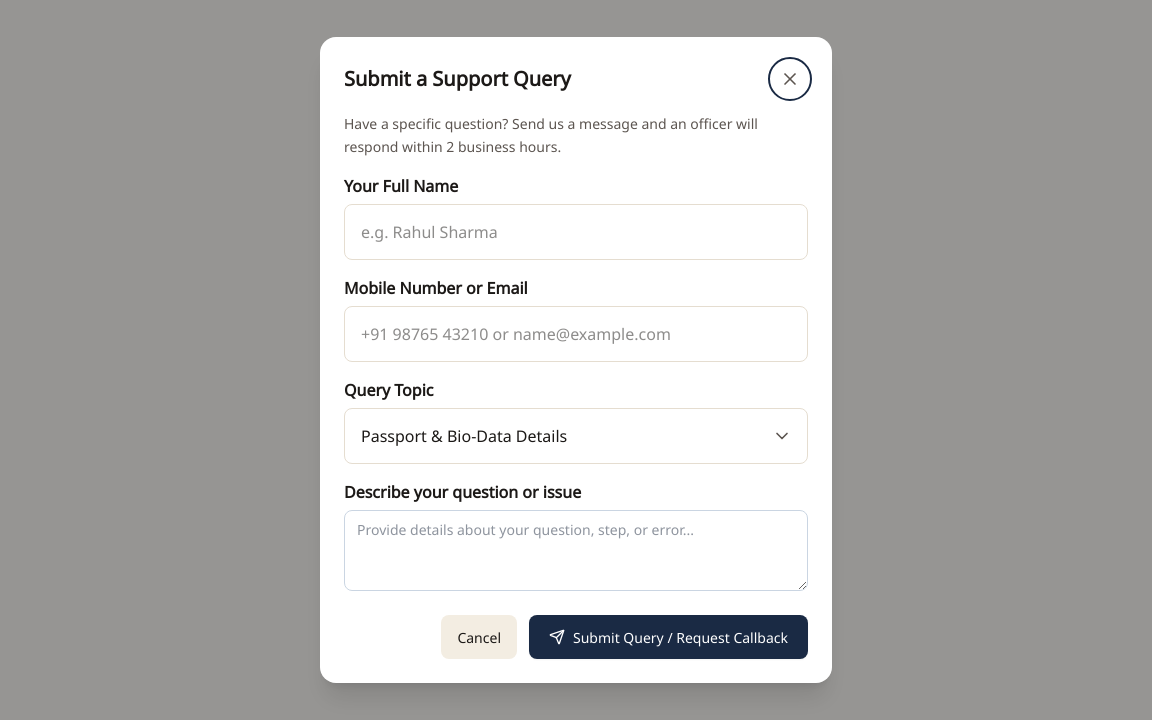
SupportTicketModal › validates required fields on empty submit
This screenshot has width=1152, height=720.
Click the button "Submit Query / Request Callback" at (668, 637), box [529,615,808,659]
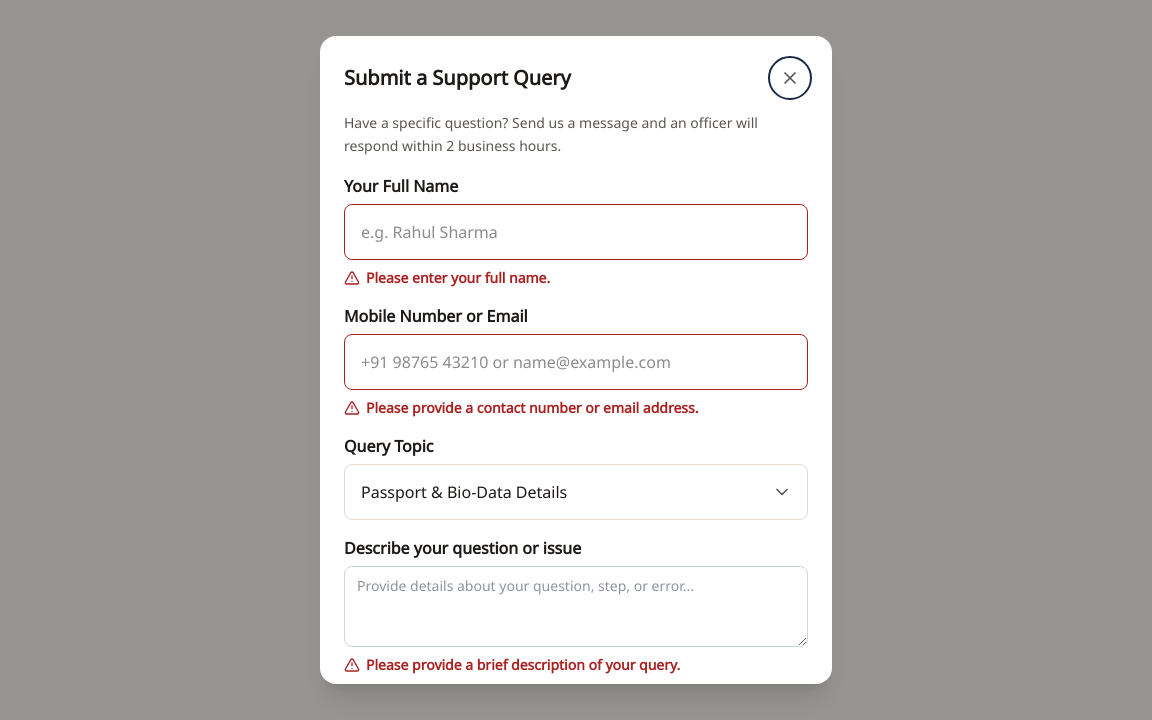
Expected: the text "Please enter your full name." is shown, [366,268,550,288]
Expected: the text "Please provide a contact number or email address." is shown, [366,398,698,418]
Expected: the text "Please provide a brief description of your query." is shown, [366,654,680,674]
